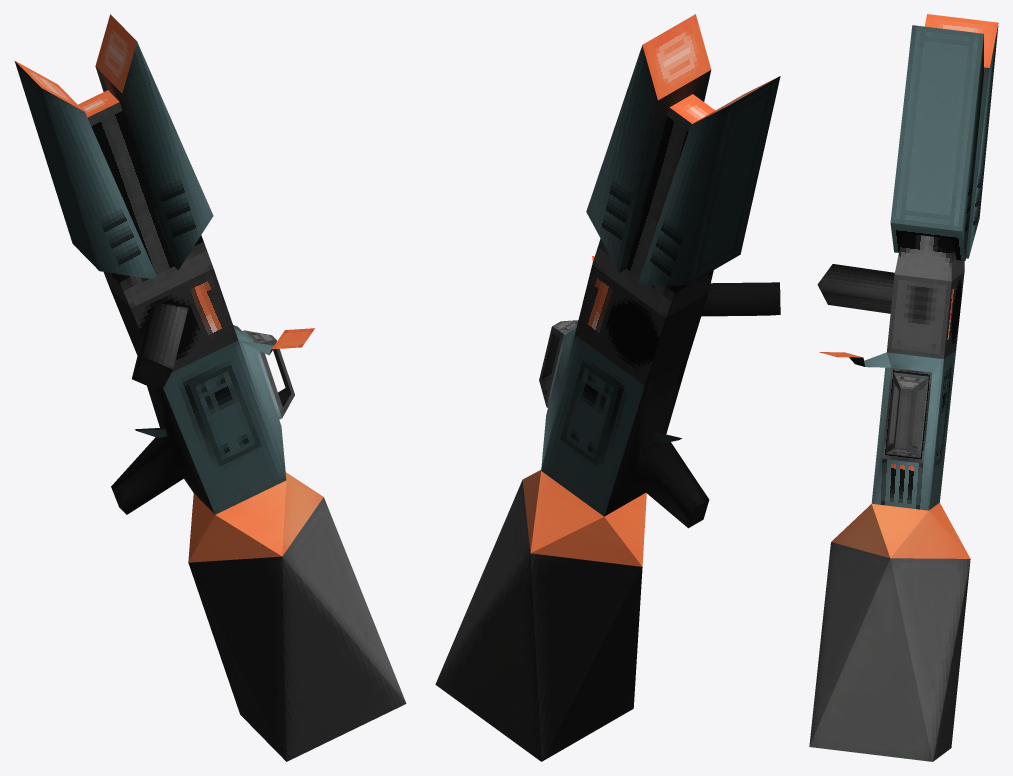
Rendered from exo_red.gltf.
The picture shows the model from 3 angles, left to right: view 1: azimuth 30°, elevation 25°; view 2: azimuth 150°, elevation 25°; view 3: azimuth 270°, elevation 25°; orthographic projection. The views are drawn at different scales.
Visible parts, largest first — view 1: rpg ammo.001; view 2: rpg ammo.001; view 3: rpg ammo.001.
Part boxes in pixels (x1,y1,x2,y2): rpg ammo.001: (14,14,406,761); rpg ammo.001: (435,14,780,761); rpg ammo.001: (809,14,998,761).
Bounding box in the file's own units: 0.5747 × 1.23 × 0.3155.
Materials: 1 (1 with a texture image).
